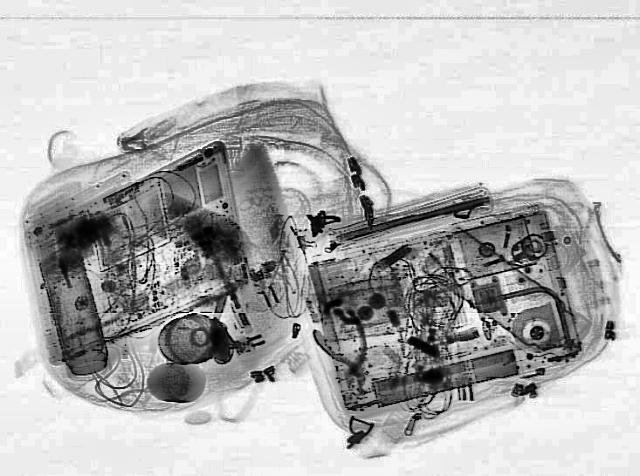Pliers: (310, 322, 384, 394)
